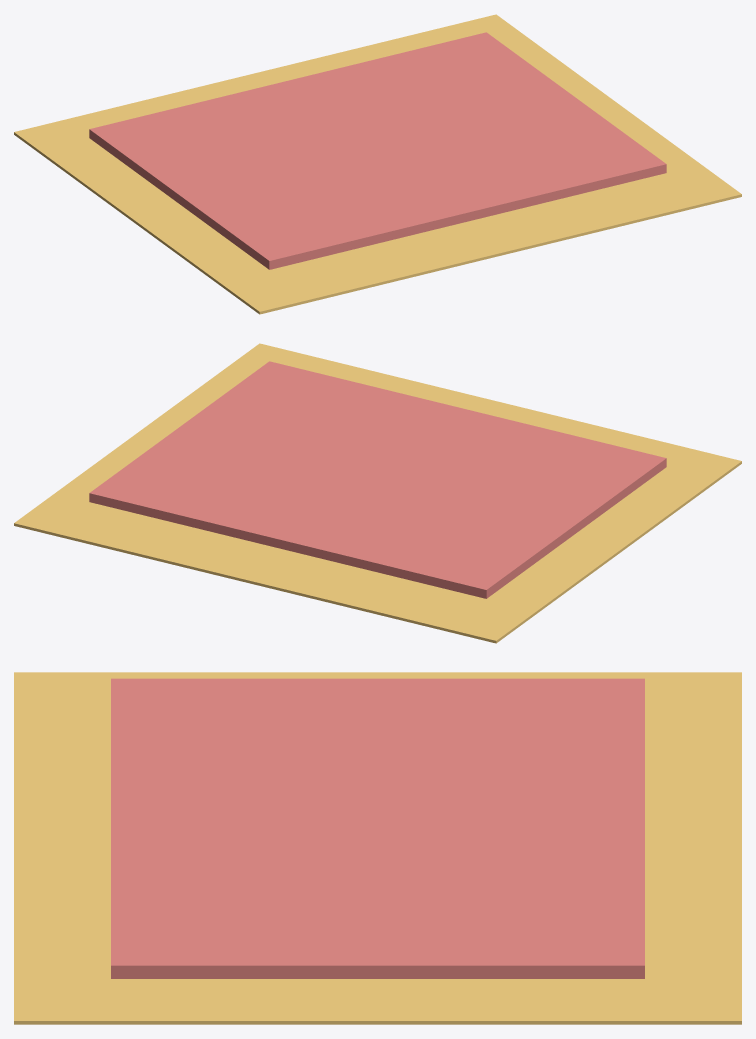
The model's file is 215_L114_Fault_F2_FanTach_Stuck.glb.
3 renders of one model, top to bottom at view 1: azimuth 30°, elevation 25°; view 2: azimuth 150°, elevation 25°; view 3: azimuth 270°, elevation 25°, orthographic. The views are drawn at different scales.
Visible parts, largest first — view 1: 215_L114_Fault_F2_FanTach_Stuck__PSMAT__Indicator_Red, 215_L114_Fault_F2_FanTach_Stuck__PSMAT__Indicator_Amber; view 2: 215_L114_Fault_F2_FanTach_Stuck__PSMAT__Indicator_Red, 215_L114_Fault_F2_FanTach_Stuck__PSMAT__Indicator_Amber; view 3: 215_L114_Fault_F2_FanTach_Stuck__PSMAT__Indicator_Red, 215_L114_Fault_F2_FanTach_Stuck__PSMAT__Indicator_Amber.
Part boxes in pixels (x1,y1,x2,y2): 215_L114_Fault_F2_FanTach_Stuck__PSMAT__Indicator_Red: (89, 32, 666, 269); 215_L114_Fault_F2_FanTach_Stuck__PSMAT__Indicator_Amber: (14, 14, 741, 314); 215_L114_Fault_F2_FanTach_Stuck__PSMAT__Indicator_Red: (89, 361, 666, 598); 215_L114_Fault_F2_FanTach_Stuck__PSMAT__Indicator_Amber: (14, 343, 741, 643); 215_L114_Fault_F2_FanTach_Stuck__PSMAT__Indicator_Red: (111, 678, 644, 978); 215_L114_Fault_F2_FanTach_Stuck__PSMAT__Indicator_Amber: (14, 672, 741, 1024).
Bounding box in the file's own units: 0.017 × 0.000645 × 0.015.
